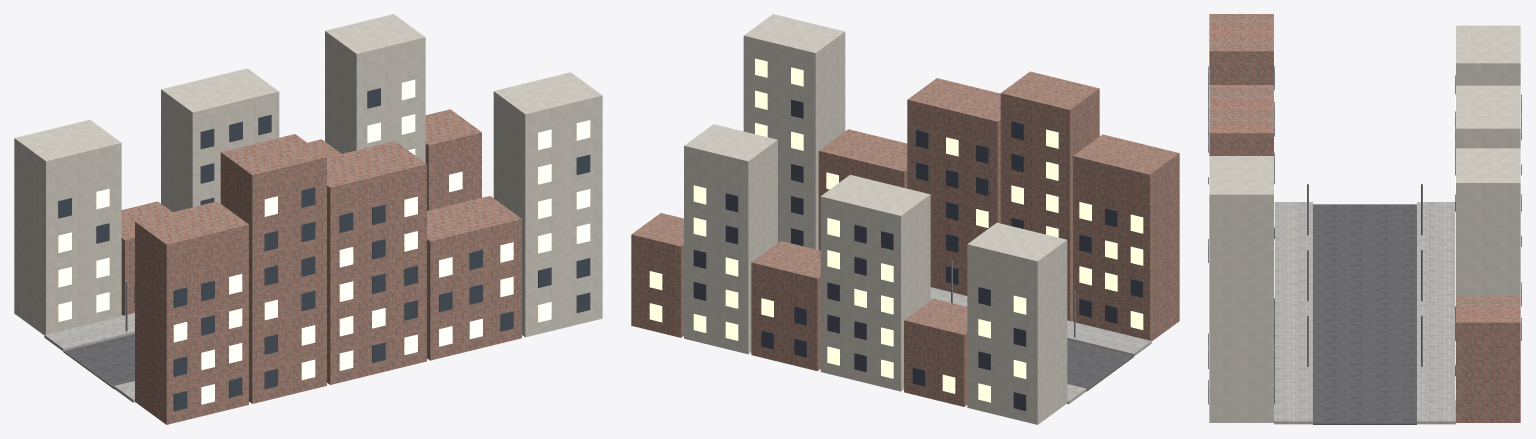
The model's file is downtown.glb.
3 views of the same model, side by side, from view 1: azimuth 30°, elevation 25°; view 2: azimuth 150°, elevation 25°; view 3: azimuth 270°, elevation 25° (orthographic). The views are drawn at different scales.
Visible parts, largest first — view 1: building_5, building, building_6, building_2, building_3, building_4, building_10, building_8, building_11, road, building_7, sidewalk_2; view 2: building, building_8, building_6, building_10, building_5, building_3, building_2, building_9, building_7, building_11, building_4, road (+1 smaller); view 3: road, building_5, building_10, sidewalk, sidewalk_2, building_11, building_2, building_3, building_8, building_6.
Boxes of the visible parts, box(x1,y1,x2,y2) form: building_5: box(493, 72, 602, 337); building: box(135, 201, 248, 424); building_6: box(14, 119, 121, 334); building_2: box(220, 134, 326, 403); building_3: box(327, 141, 426, 384); building_4: box(427, 196, 521, 360); building_10: box(325, 14, 425, 162); building_8: box(161, 68, 279, 211); building_11: box(425, 109, 481, 210); road: box(63, 333, 134, 389); building_7: box(121, 201, 172, 315); sidewalk_2: box(44, 313, 134, 350); building: box(1073, 134, 1179, 341); building_8: box(820, 175, 930, 391); building_6: box(967, 222, 1067, 424); building_10: box(684, 124, 777, 354); building_5: box(743, 14, 845, 249); building_3: box(907, 78, 1000, 295); building_2: box(1000, 71, 1099, 321); building_9: box(751, 241, 820, 371); building_7: box(904, 299, 967, 406); building_11: box(631, 213, 683, 337); building_4: box(818, 129, 907, 250); road: box(1067, 340, 1133, 391); road: box(1313, 204, 1416, 424); building_5: box(1209, 156, 1273, 422); building_10: box(1456, 148, 1520, 295); sidewalk: box(1274, 202, 1312, 424); sidewalk_2: box(1417, 202, 1455, 424); building_11: box(1456, 296, 1520, 422); building_2: box(1209, 14, 1273, 84); building_3: box(1209, 85, 1273, 155); building_8: box(1456, 85, 1520, 148); building_6: box(1456, 25, 1520, 85).
Size of what is drawn, in the model's own units: 40 by 20 by 24.14.
7 materials, 4 textured.
